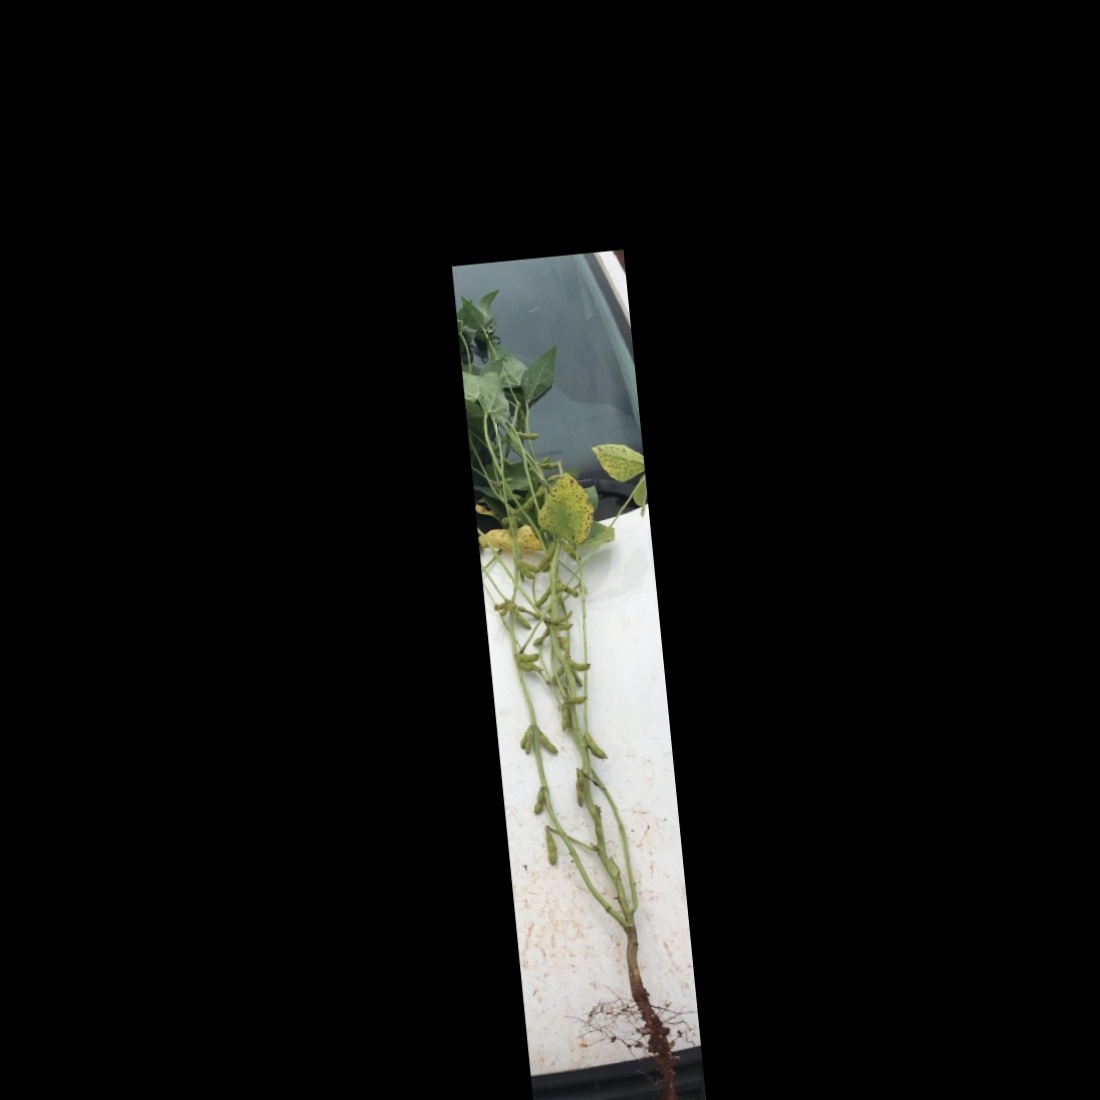pod: (542, 825, 561, 869), (585, 730, 610, 762), (527, 784, 549, 819), (537, 727, 558, 757), (510, 604, 532, 632), (516, 555, 538, 581), (530, 585, 552, 609), (515, 651, 544, 666), (567, 657, 592, 673)
soy: (461, 301, 700, 1070)
